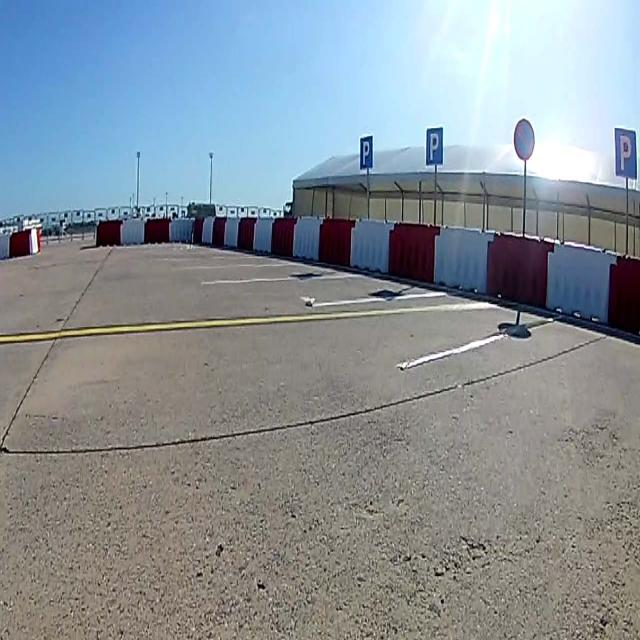park: (616, 123, 636, 177), (426, 127, 443, 165), (361, 137, 374, 169)
parkyasak: (514, 120, 536, 159)
